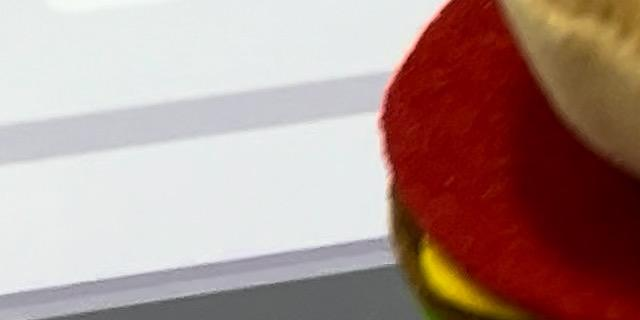burger: (352, 0, 640, 320)
